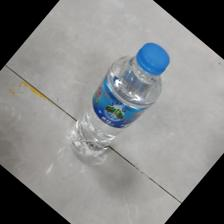Lavie: (68, 43, 170, 161)
